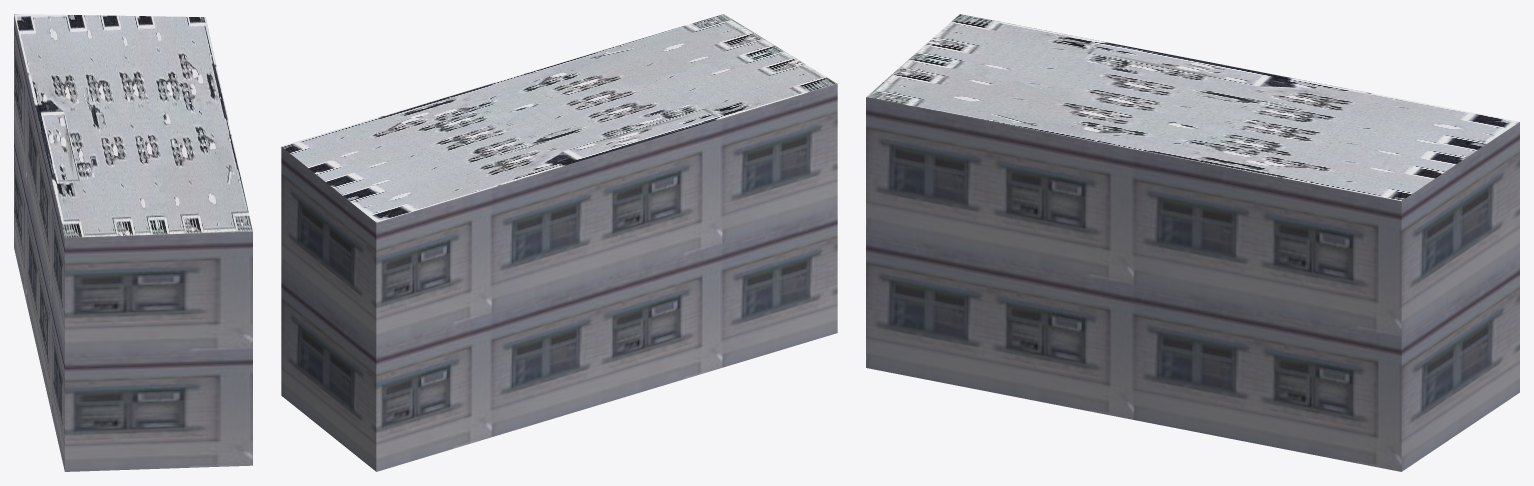
The model's file is ResTex__580.fbx.
3 renders of one model, left to right at view 1: azimuth 30°, elevation 25°; view 2: azimuth 150°, elevation 25°; view 3: azimuth 270°, elevation 25°, orthographic. The views are drawn at different scales.
Visible parts, largest first — view 1: CityEngineMaterial_1_m, CityEngineMaterial_4_m; view 2: CityEngineMaterial_1_m, CityEngineMaterial_4_m; view 3: CityEngineMaterial_1_m, CityEngineMaterial_4_m.
Part boxes in pixels (<box>): CityEngineMaterial_1_m: <box>14,14,252,471</box>; CityEngineMaterial_4_m: <box>14,14,252,237</box>; CityEngineMaterial_1_m: <box>281,84,837,471</box>; CityEngineMaterial_4_m: <box>281,14,837,222</box>; CityEngineMaterial_1_m: <box>866,97,1519,471</box>; CityEngineMaterial_4_m: <box>866,14,1518,201</box>.
Size of the model in its own units: 8.9 by 6 by 13.13.
Materials: 2 (2 with a texture image).
